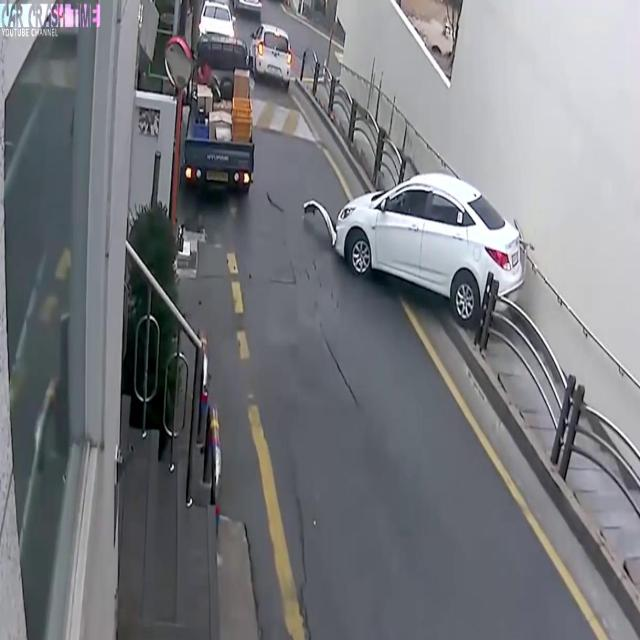accident: (296, 159, 536, 337)
non_accident: (168, 0, 297, 210)
